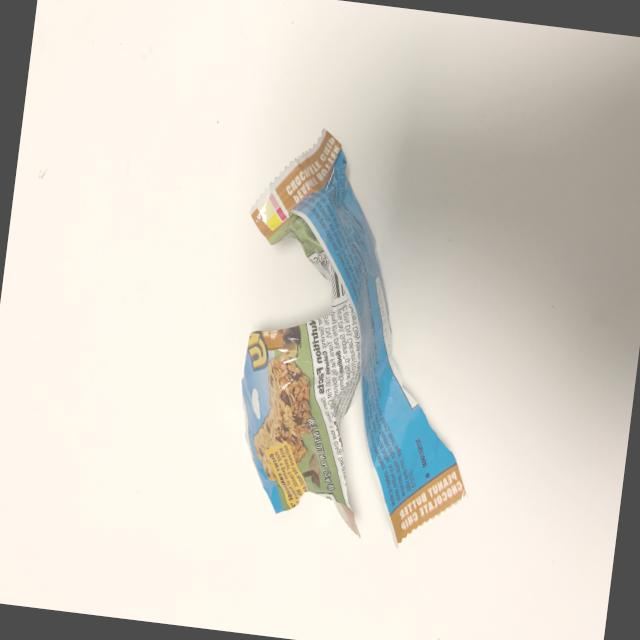Plastic: (148, 93, 542, 573)
